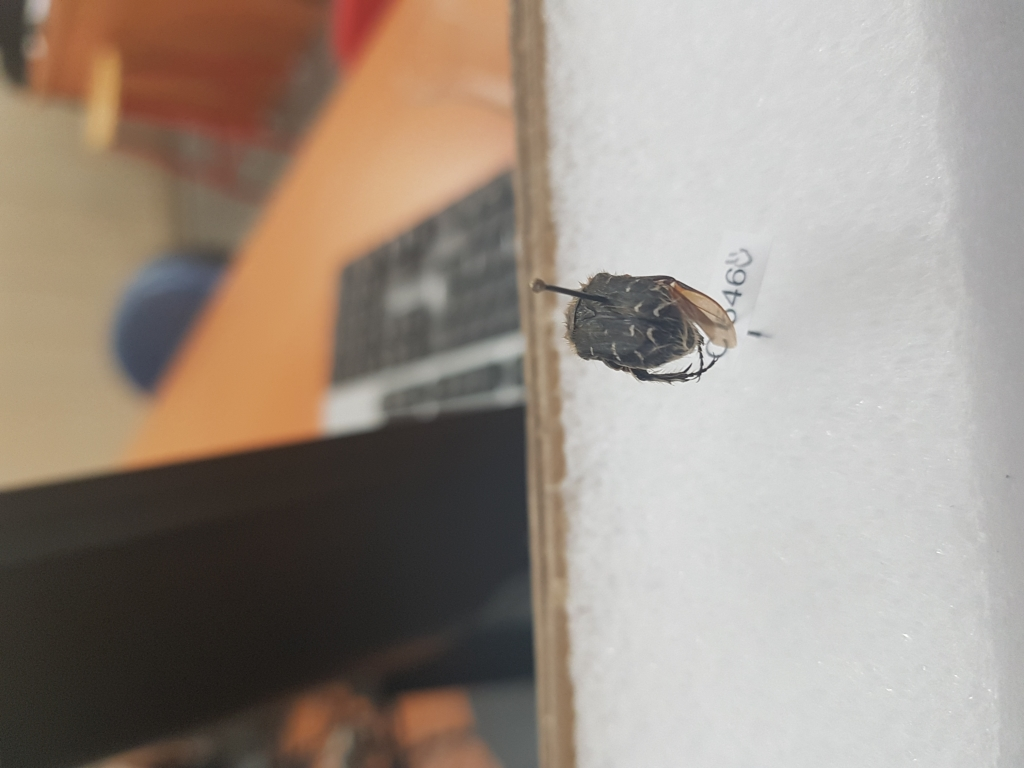Tropinota_senicula: (567, 269, 752, 386)
